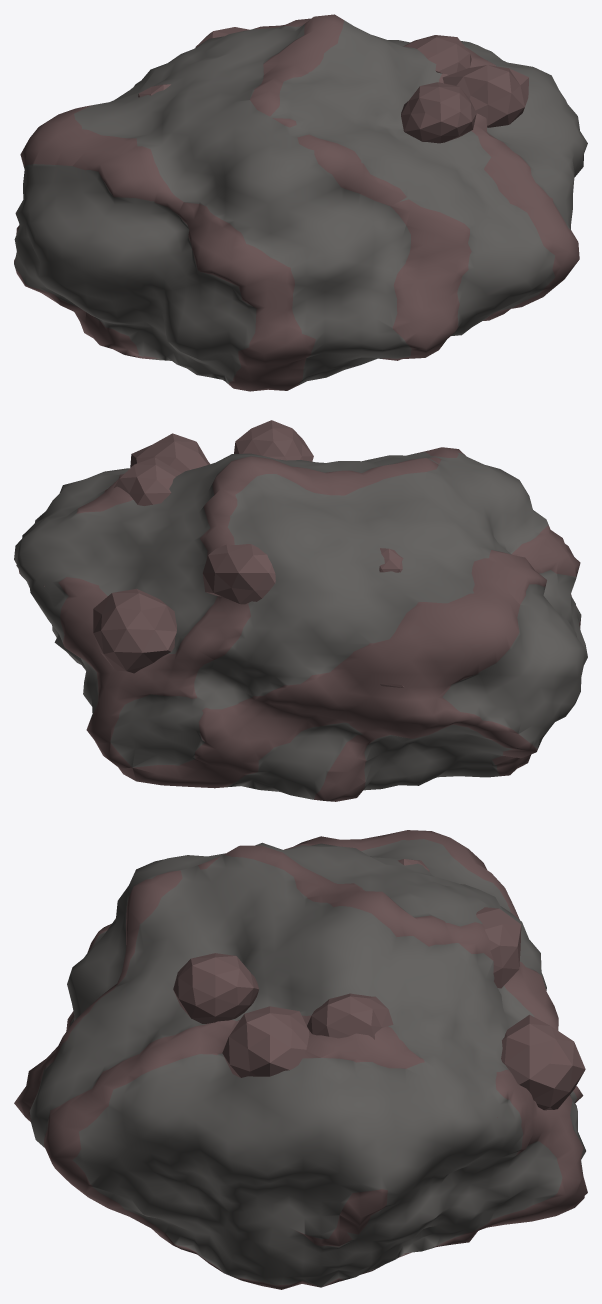
File: chromite_deep.glb
3 renders of one model, top to bottom at view 1: azimuth 30°, elevation 25°; view 2: azimuth 150°, elevation 25°; view 3: azimuth 270°, elevation 25°, orthographic. The views are drawn at different scales.
Parts seen in each view (by area): view 1: chromite_deep; view 2: chromite_deep; view 3: chromite_deep.
Boxes of the visible parts, <box> form: chromite_deep: <box>14,14,587,391</box>; chromite_deep: <box>14,420,587,801</box>; chromite_deep: <box>14,830,587,1289</box>.
Size of the model in its own units: 1.95 by 0.8854 by 1.58.
